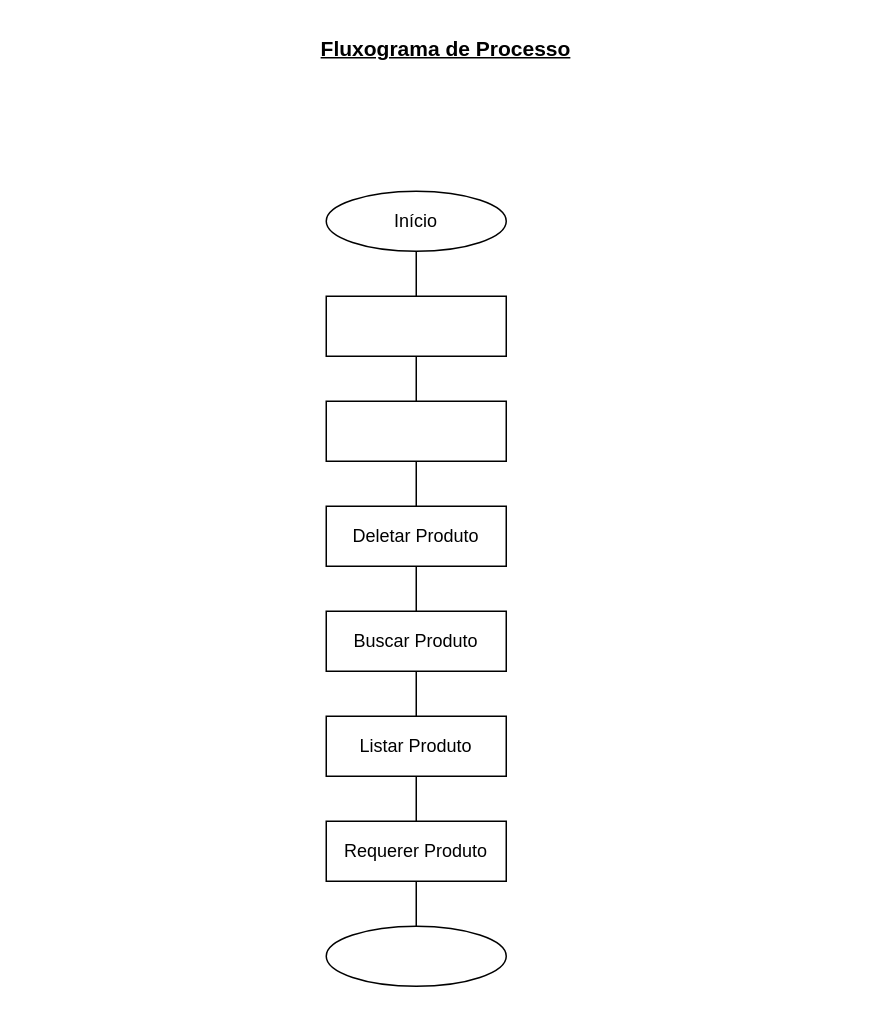
Some shapes in this 891 by 1013 pixel diagram are drawn without their labels. Each missing label, with the box of its shape:
Atualizar Produto: (325, 400, 506, 461)
Fim: (325, 925, 506, 986)
Inserir Produto: (325, 295, 506, 356)
